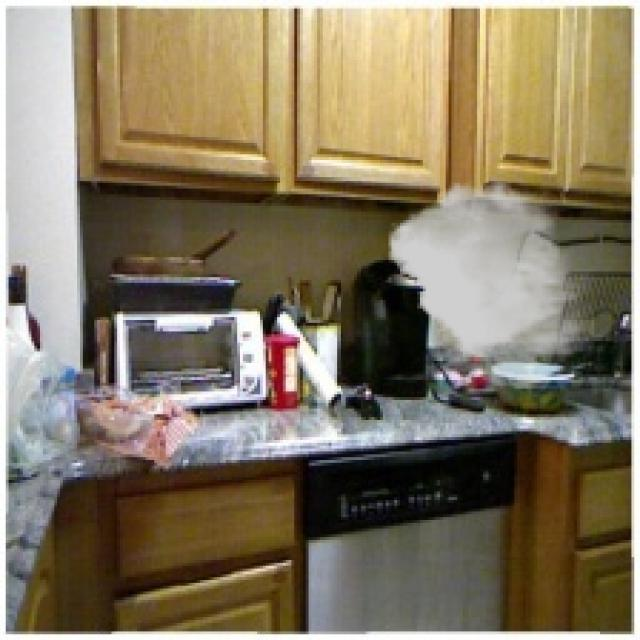smoke: (389, 180, 594, 389)
